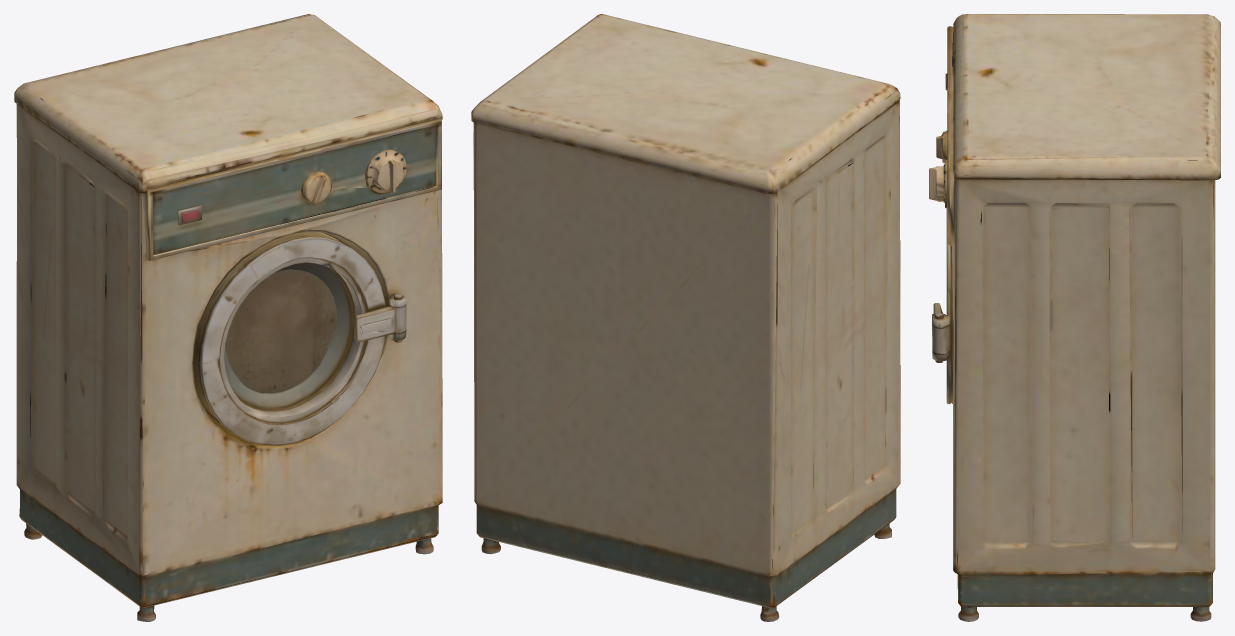
The model's file is story_washer.glb.
3 renders of one model, left to right at view 1: azimuth 30°, elevation 25°; view 2: azimuth 150°, elevation 25°; view 3: azimuth 270°, elevation 25°, orthographic. The views are drawn at different scales.
Parts seen in each view (by area): view 1: geometry_0; view 2: geometry_0; view 3: geometry_0.
Boxes of the visible parts, box(x1,y1,x2,y2) form: geometry_0: box(14, 14, 442, 621); geometry_0: box(471, 14, 900, 621); geometry_0: box(929, 14, 1220, 621).
Bounding box in the file's own units: 0.6073 × 0.86 × 0.4912.
1 material, 1 textured.
